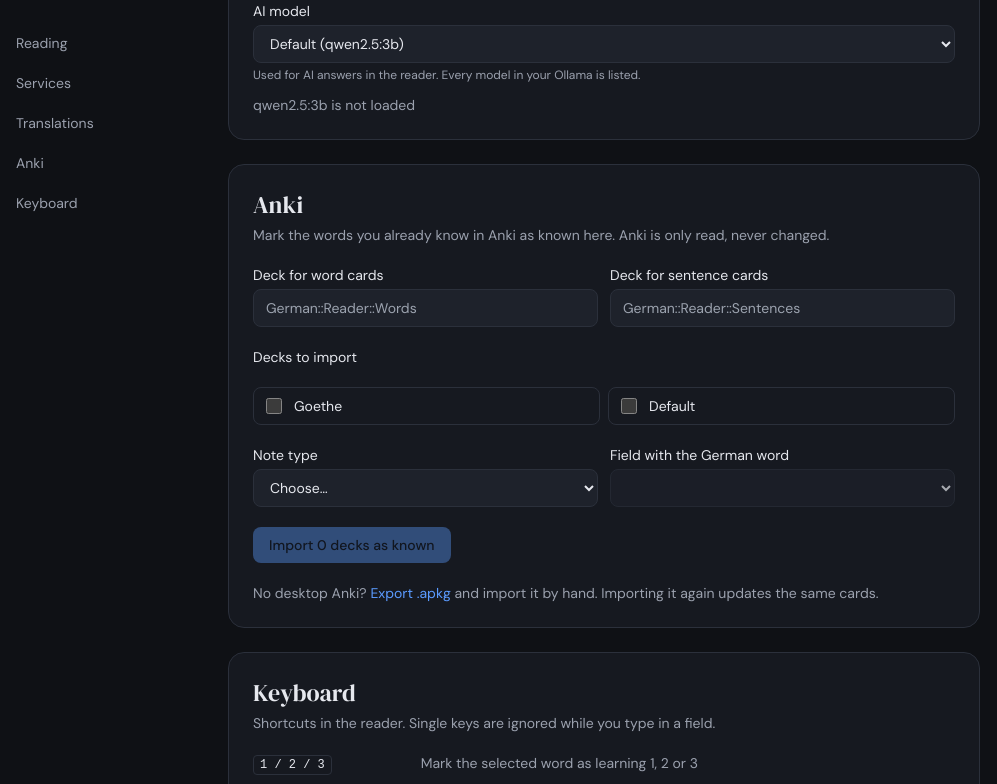
Test: SettingsPage › defaults to the first field and imports the chosen mapping
(page scrolled)
Click the checkbox labelled "Goethe" at (274,406), box [266, 398, 282, 414]
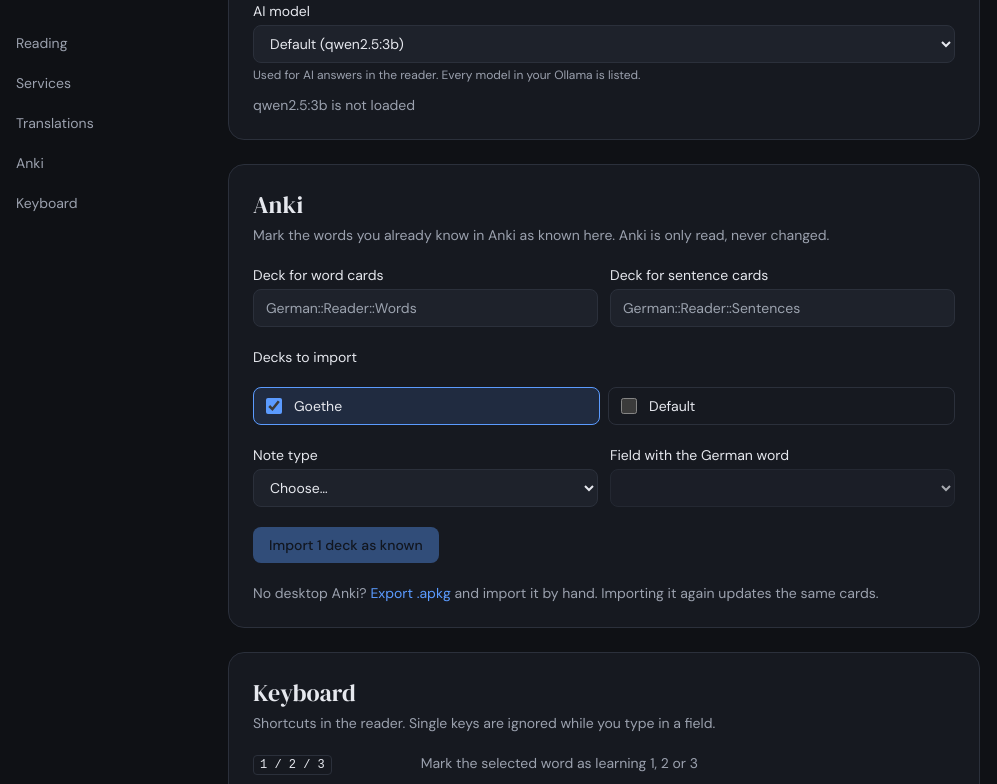
Select "Vocab" in the dropdown labelled "Note type" at (426,488), box [253, 469, 598, 507]
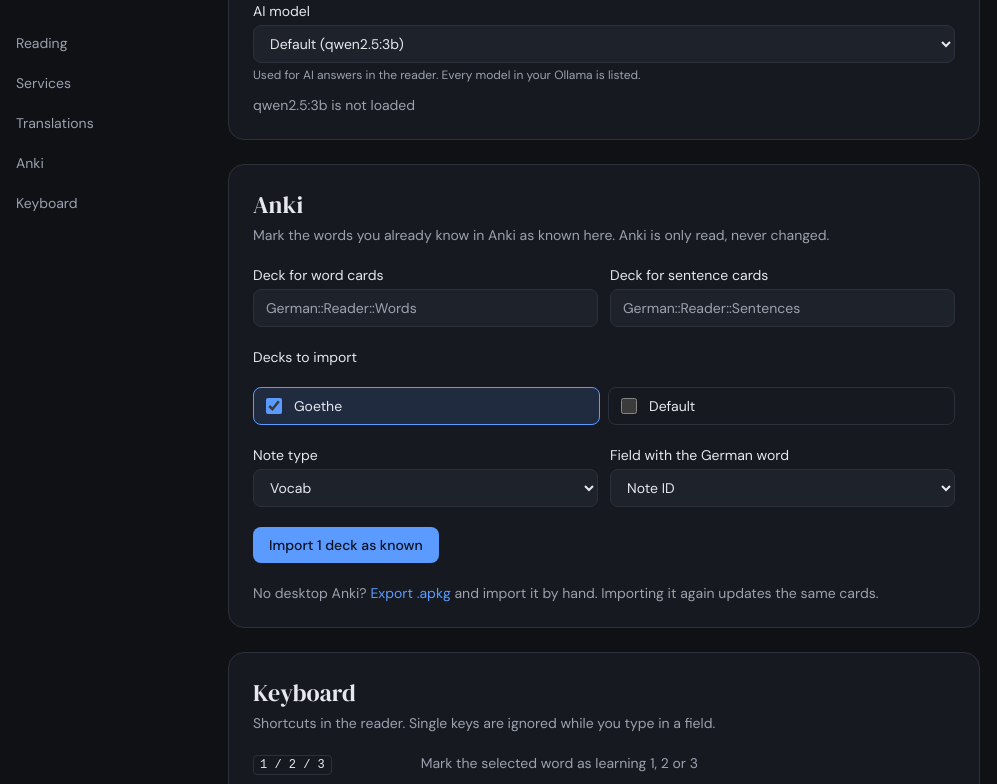
Now the dropdown labelled "Field with the German word" shows "Note ID"
Select "de_word" in the dropdown labelled "Field with the German word" at (782,488), box [610, 469, 955, 507]
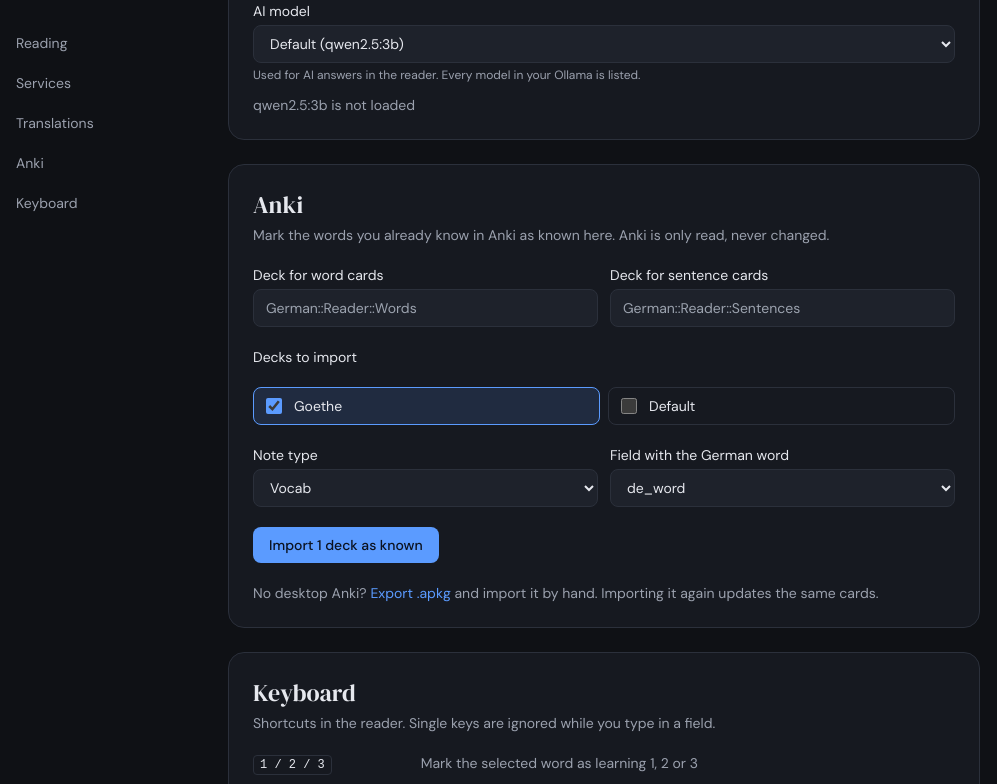
Click the button "Import 1 deck as known" at (346,545), box [253, 527, 439, 563]
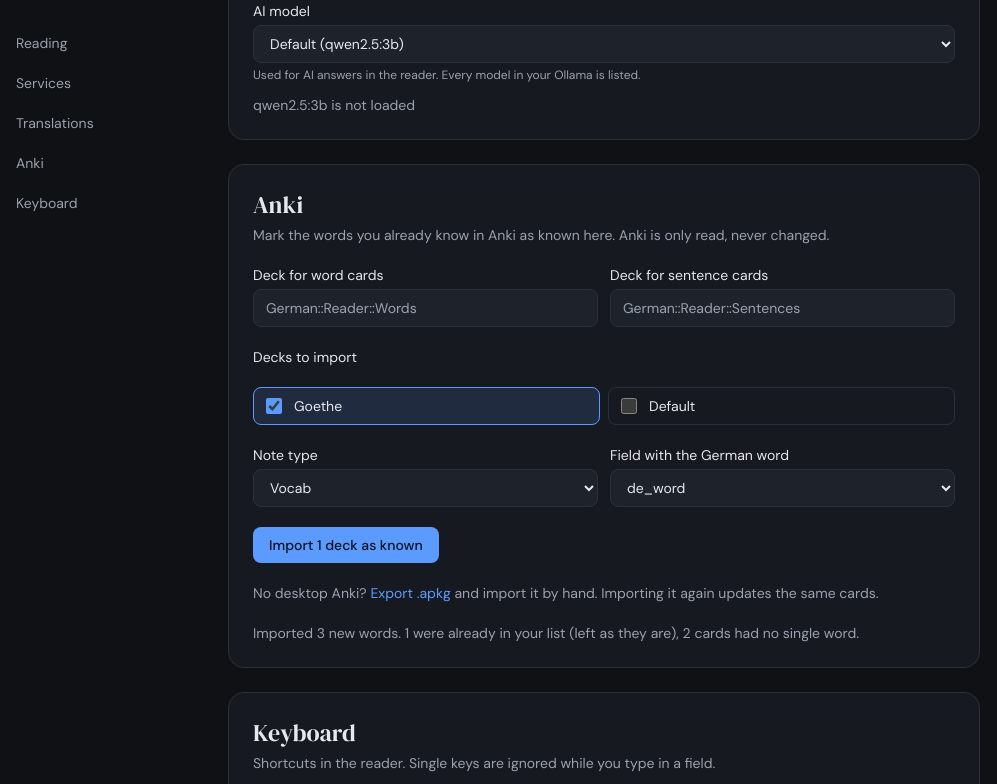
Now the text "Imported 3 new words" is shown, box [253, 623, 955, 643]
